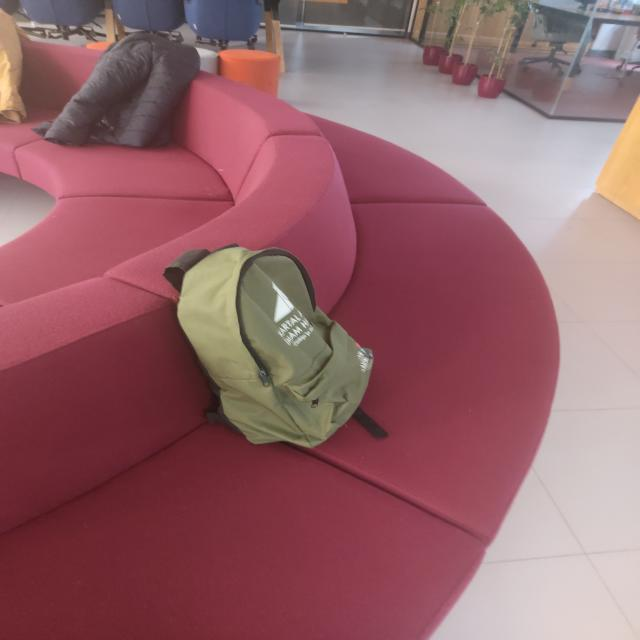bag: (146, 242, 395, 452)
